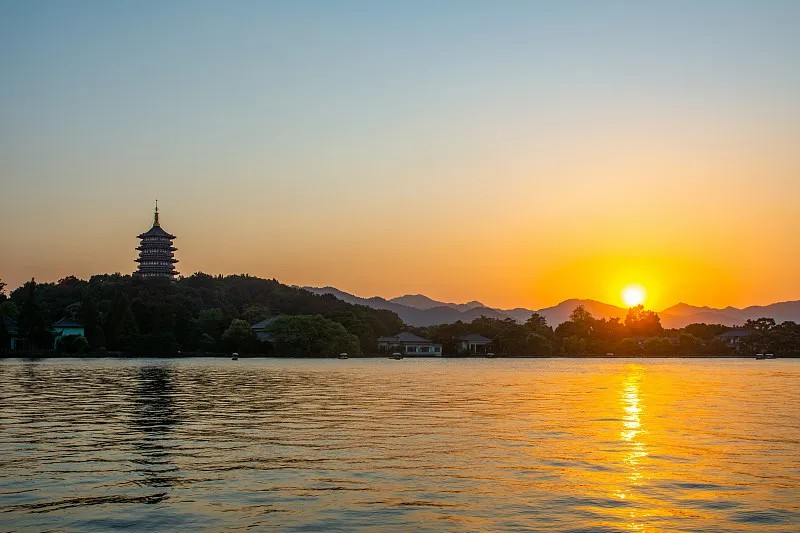Leifeng: (134, 199, 179, 282)
